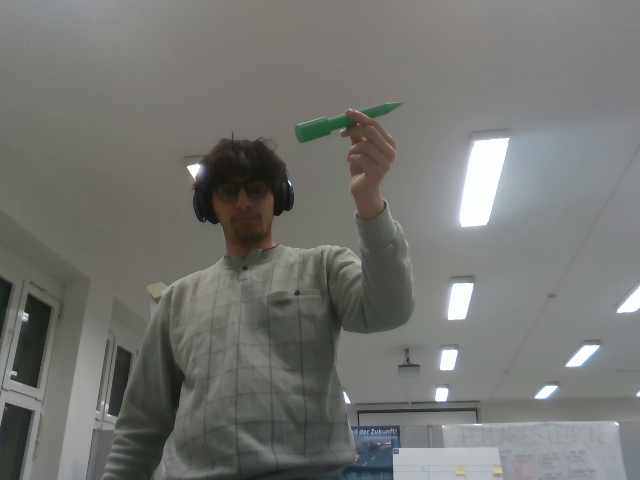Probe: (293, 96, 409, 146)
